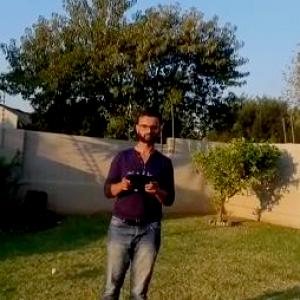follow: (96, 104, 184, 299)
